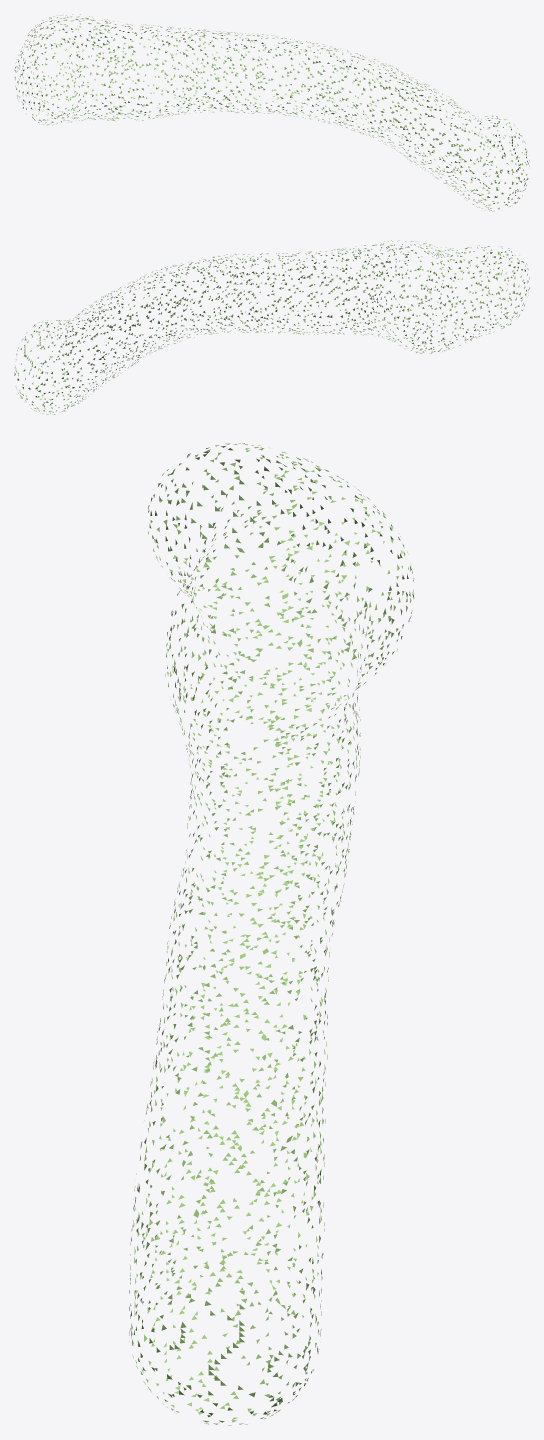
Rendered from morph_013.glb.
3 views of the same model, one above another, from view 1: azimuth 30°, elevation 25°; view 2: azimuth 150°, elevation 25°; view 3: azimuth 270°, elevation 25° (orthographic). The views are drawn at different scales.
Size of the model in its own units: 139 by 74.38 by 35.24.
